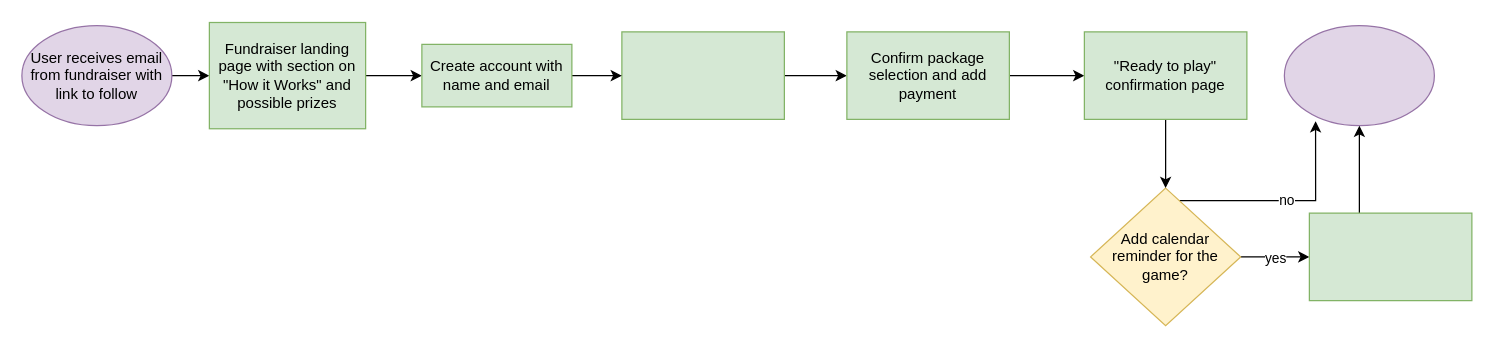
Image size: 1494x348. Some labels were removed from this diagram. The centre of each missing label's shape, as x and y in pixels:
Add reminder to chosen calendar: pixel 1390 256
Choose the "Bonbids" package you want to purchase: pixel 702 75
Ready to play game: pixel 1358 75
